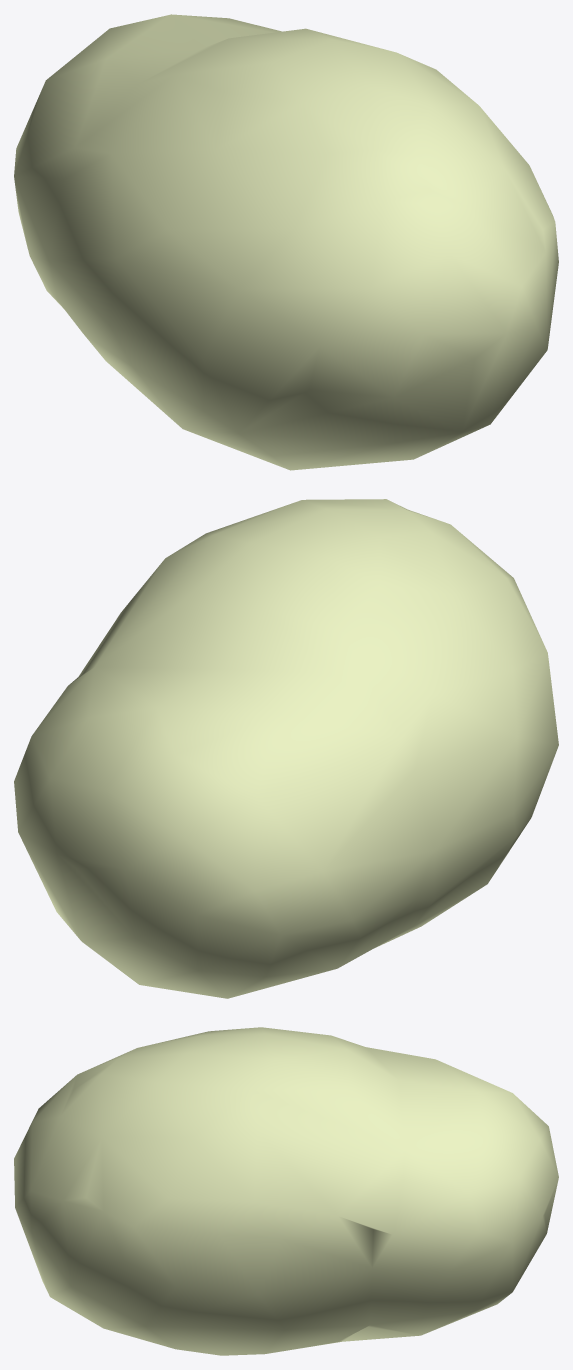
3 views of the same model, one above another, from view 1: azimuth 30°, elevation 25°; view 2: azimuth 150°, elevation 25°; view 3: azimuth 270°, elevation 25° (orthographic). The views are drawn at different scales.
Parts seen in each view (by area): view 1: mesh0_potato01a_LOD0; view 2: mesh0_potato01a_LOD0; view 3: mesh0_potato01a_LOD0.
Boxes of the visible parts, left/top/right/bottom form: mesh0_potato01a_LOD0: left=14, top=14, right=558, bottom=470; mesh0_potato01a_LOD0: left=14, top=499, right=558, bottom=998; mesh0_potato01a_LOD0: left=14, top=1027, right=558, bottom=1355.
Size of what is drawn, in the model's own units: 6.23 by 5.66 by 9.41.
